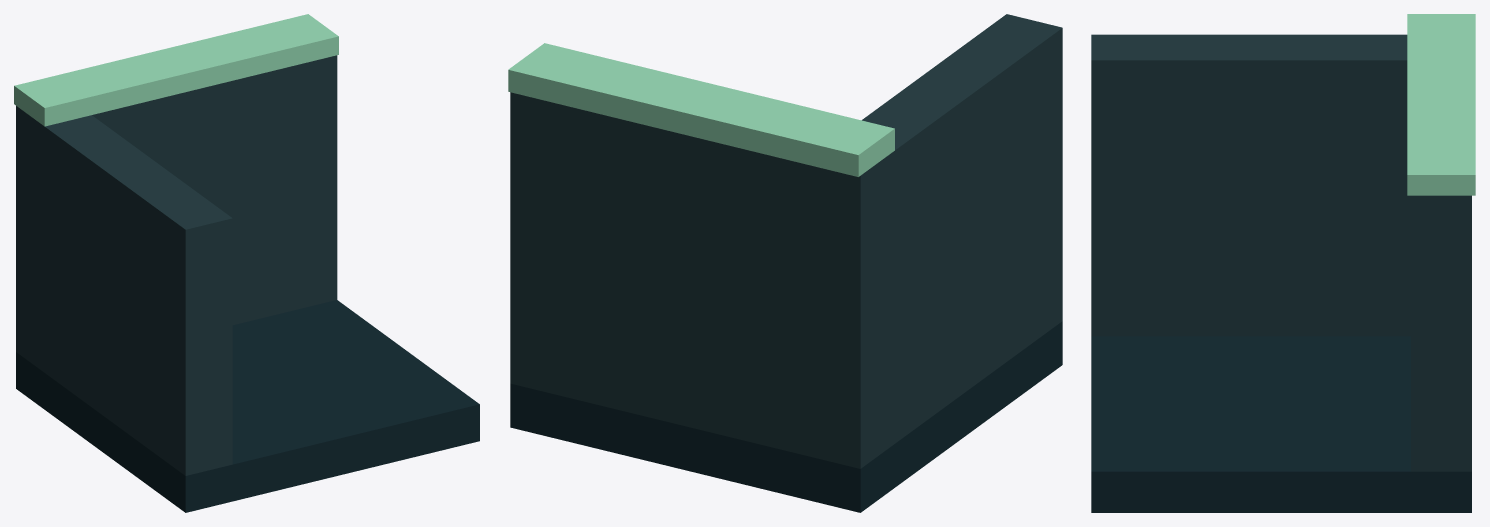
Rendered from corner-wall.glb.
3 renders of one model, left to right at view 1: azimuth 30°, elevation 25°; view 2: azimuth 150°, elevation 25°; view 3: azimuth 270°, elevation 25°, orthographic. The views are drawn at different scales.
Visible parts, largest first — view 1: side, back, base, trim; view 2: back, side, base, trim; view 3: side, base, back, trim.
Part boxes in pixels (left/top/right/bottom): side: left=43, top=115, right=232, bottom=475; back: left=16, top=55, right=337, bottom=371; base: left=16, top=300, right=479, bottom=512; trim: left=14, top=14, right=338, bottom=126; back: left=510, top=92, right=892, bottom=468; side: left=862, top=14, right=1062, bottom=444; base: left=510, top=321, right=1062, bottom=512; trim: left=508, top=43, right=894, bottom=176; side: left=1091, top=34, right=1410, bottom=336; base: left=1091, top=336, right=1471, bottom=512; back: left=1411, top=195, right=1471, bottom=471; trim: left=1407, top=14, right=1475, bottom=195.
Bounding box in the file's own units: 1 × 0.98 × 1.01.
